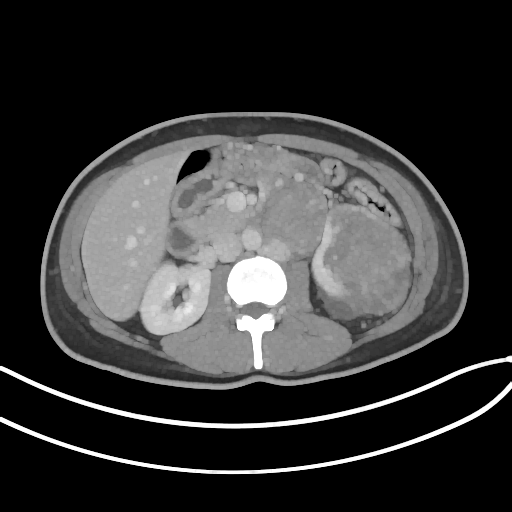Lesion: (313, 204, 412, 292)
